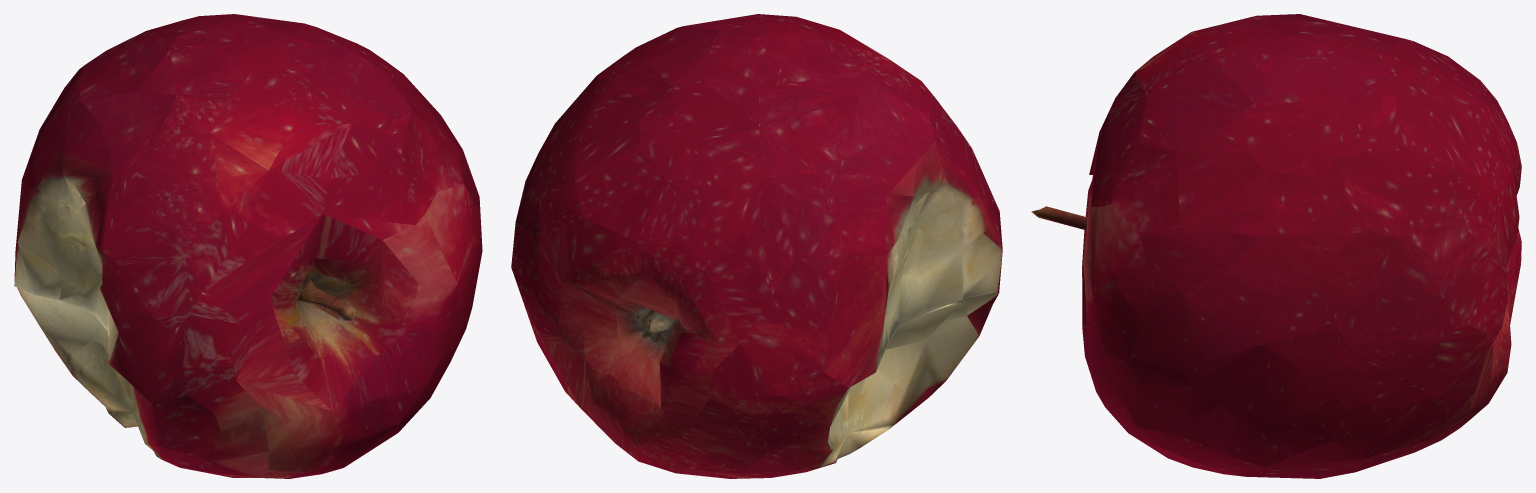
File: apple_mid_lod_050_lod_025.obj
3 views of the same model, side by side, from view 1: azimuth 30°, elevation 25°; view 2: azimuth 150°, elevation 25°; view 3: azimuth 270°, elevation 25° (orthographic). The views are drawn at different scales.
Size of the model in its own units: 0.7495 by 0.7655 by 0.7991.
Materials: 1 (1 with a texture image).
